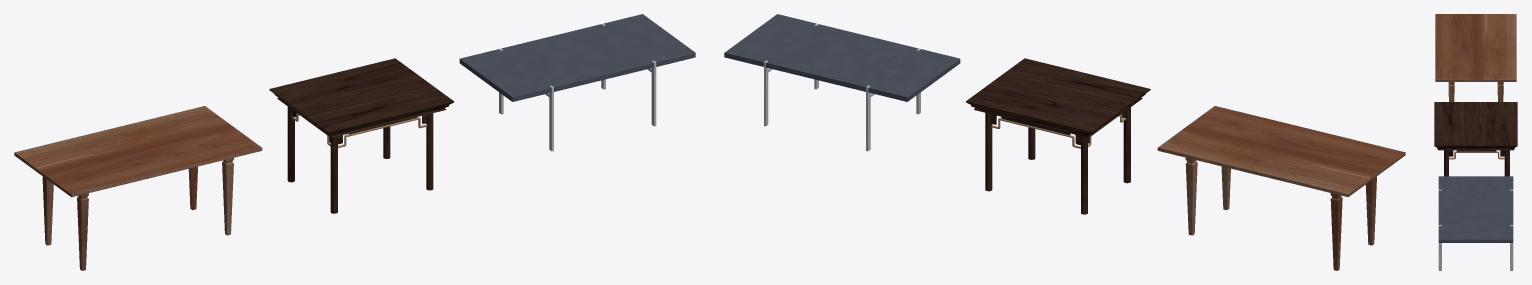
File: table.glb
3 views of the same model, side by side, from view 1: azimuth 30°, elevation 25°; view 2: azimuth 150°, elevation 25°; view 3: azimuth 270°, elevation 25° (orthographic). The views are drawn at different scales.
Parts seen in each view (by area): view 1: Table3, Table1, Table2; view 2: Table3, Table1, Table2; view 3: Table3, Table1, Table2.
Boxes of the visible parts, box(x1,y1,x2,y2) form: Table3: box(14, 106, 262, 270); Table1: box(459, 14, 695, 151); Table2: box(269, 58, 454, 213); Table3: box(1157, 106, 1405, 270); Table1: box(724, 14, 960, 151); Table2: box(966, 58, 1150, 214); Table3: box(1435, 14, 1516, 101); Table1: box(1438, 176, 1513, 270); Table2: box(1434, 102, 1517, 176).
Bounding box in the file's own units: 4.1 × 0.5637 × 0.6684.
5 materials, 5 textured.
